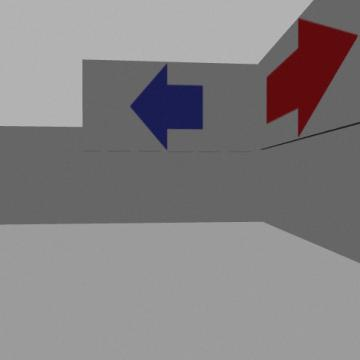blue_left: (131, 64, 202, 148)
red_right: (267, 19, 357, 136)
